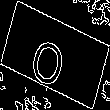O_N: (33, 23, 77, 87)
